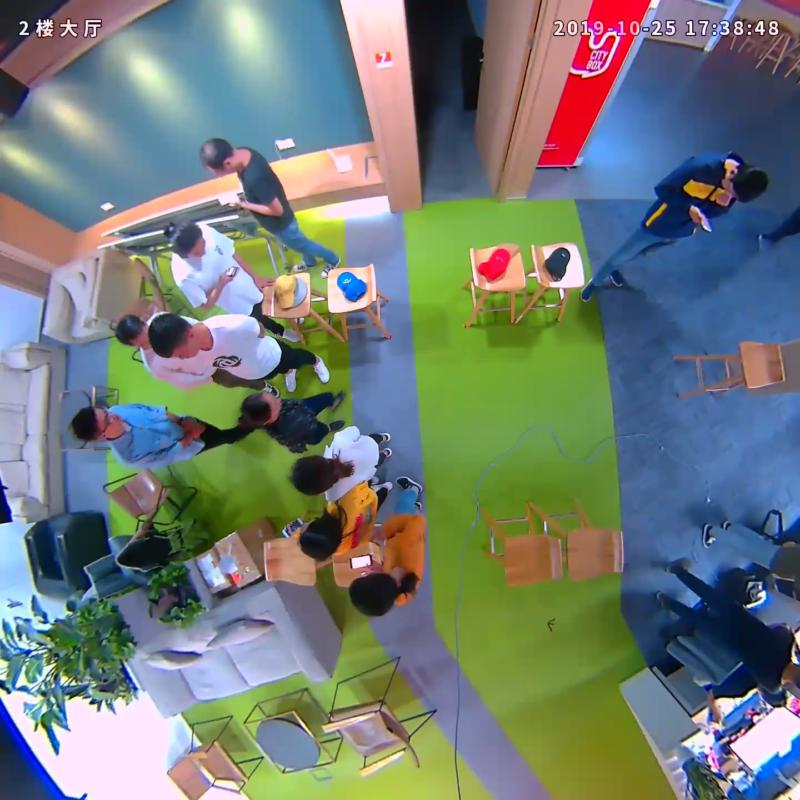head: (149, 313, 200, 361), (349, 573, 398, 617), (719, 163, 770, 205), (298, 512, 340, 562), (72, 405, 125, 441), (290, 455, 335, 496), (198, 138, 239, 175), (170, 219, 207, 260), (115, 313, 152, 351), (241, 392, 281, 425)
